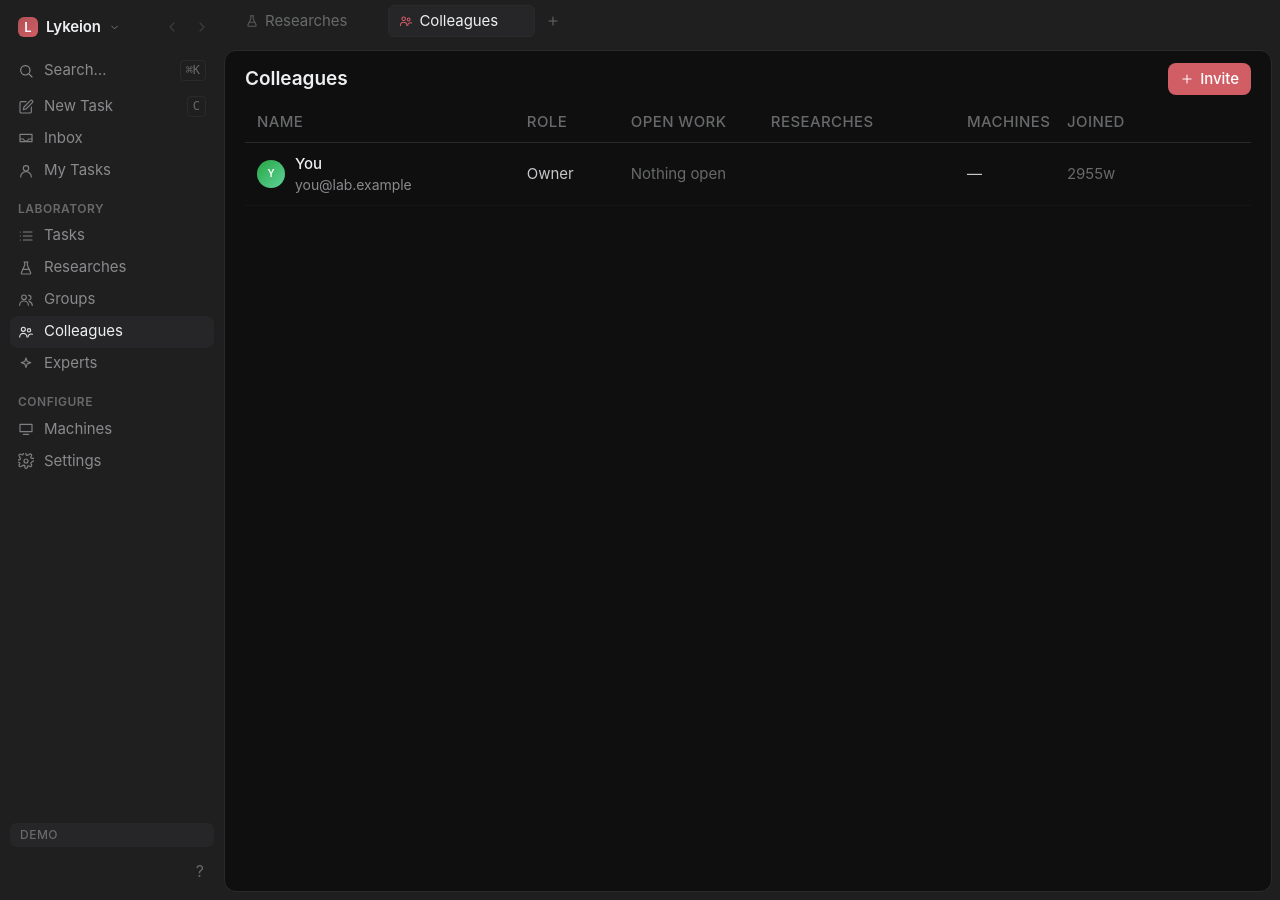
Test case: offers an owner the invite modal, and will not let them remove themselves
The width and height of the screenshot is (1280, 900).
Click the link "Colleagues" at (112,332), box [10,316,214,348]
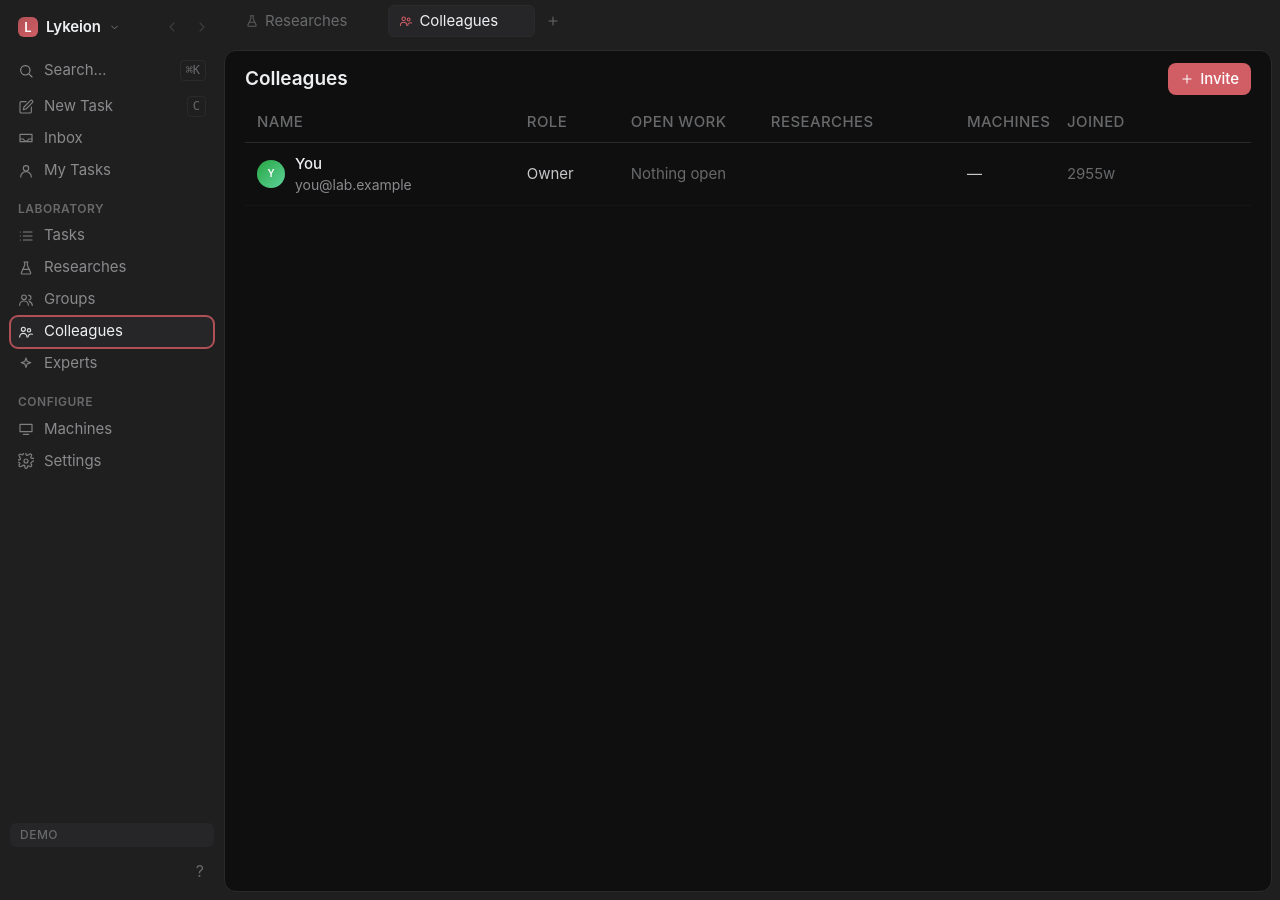
Expected: the text "You" is shown, [295,152,322,175]
Click the button "Invite" at (1210,79), box [1168,63,1251,95]
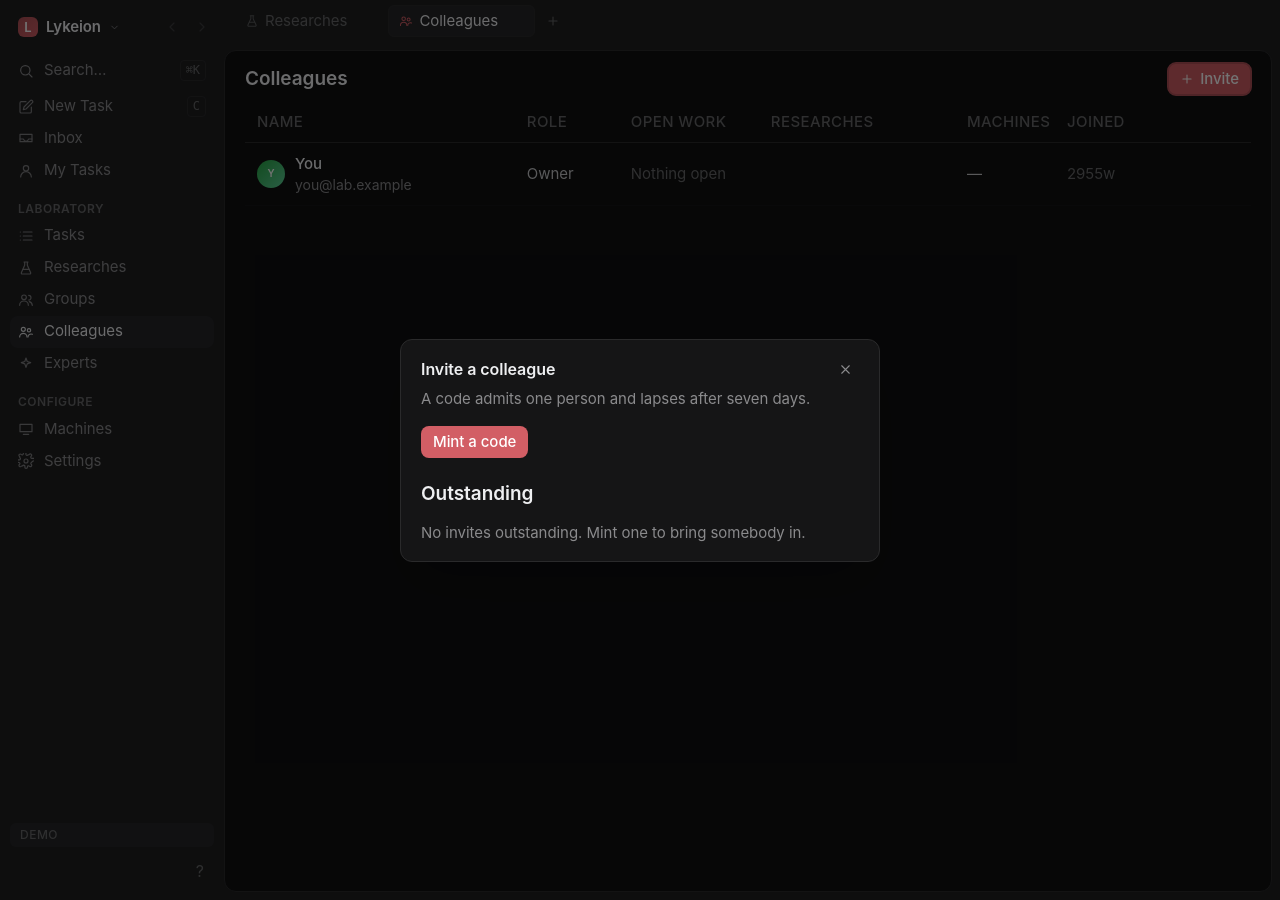
Click the button "Mint a code" at (475,442), box [421,426,528,458]
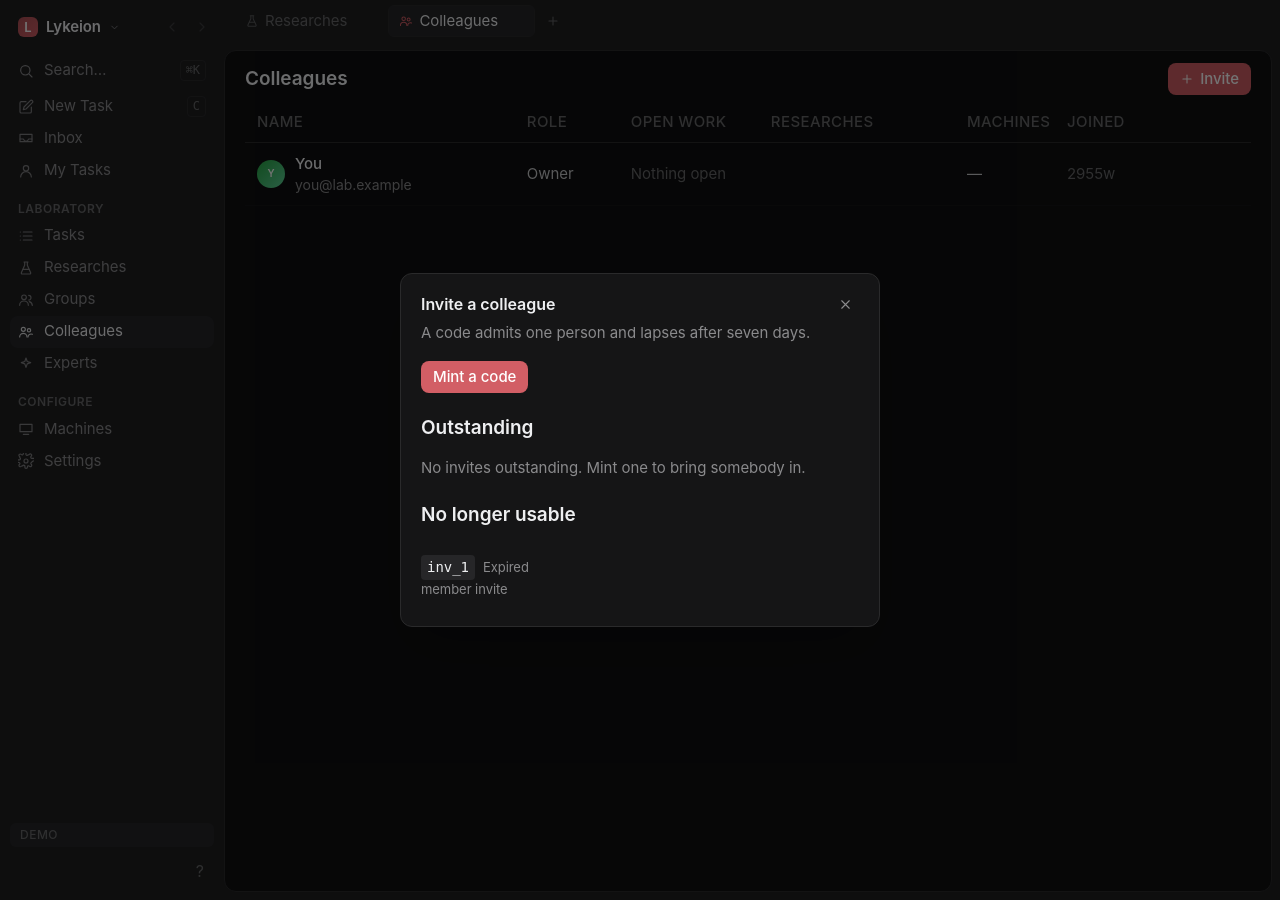
Result: the text "member invite" is shown at [421,580,508,596]
